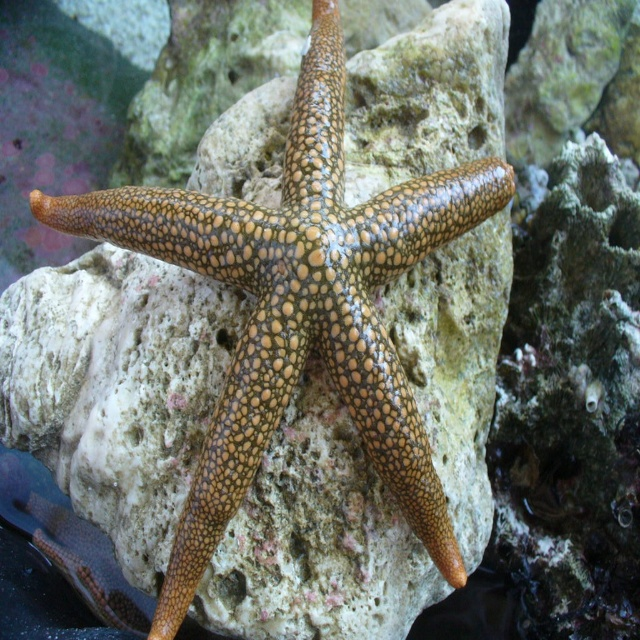Starfish: (28, 0, 515, 640)
